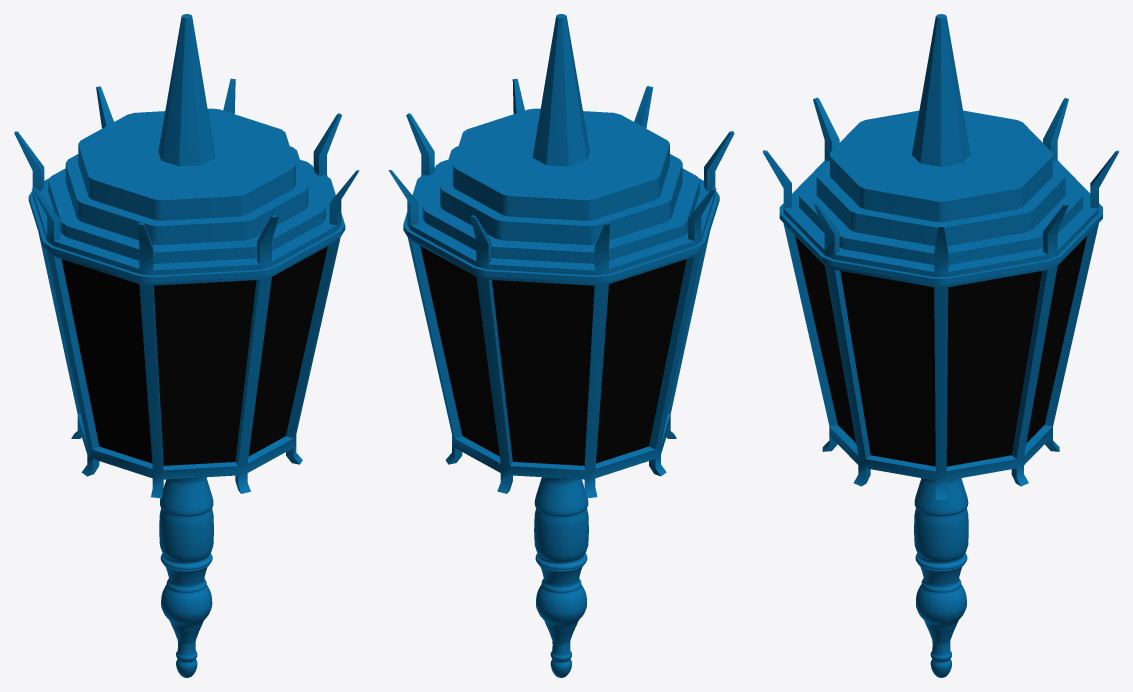
Rendered from Lamp.fbx.
3 renders of one model, left to right at view 1: azimuth 30°, elevation 25°; view 2: azimuth 150°, elevation 25°; view 3: azimuth 270°, elevation 25°, orthographic.
Parts seen in each view (by area): view 1: pCylinder48; view 2: pCylinder48; view 3: pCylinder48.
Boxes of the visible parts, x1,y1,x2,y2 form: pCylinder48: (14,14,359,677); pCylinder48: (388,14,734,677); pCylinder48: (763,14,1118,677).
Bounding box in the file's own units: 180 × 370 × 180.
